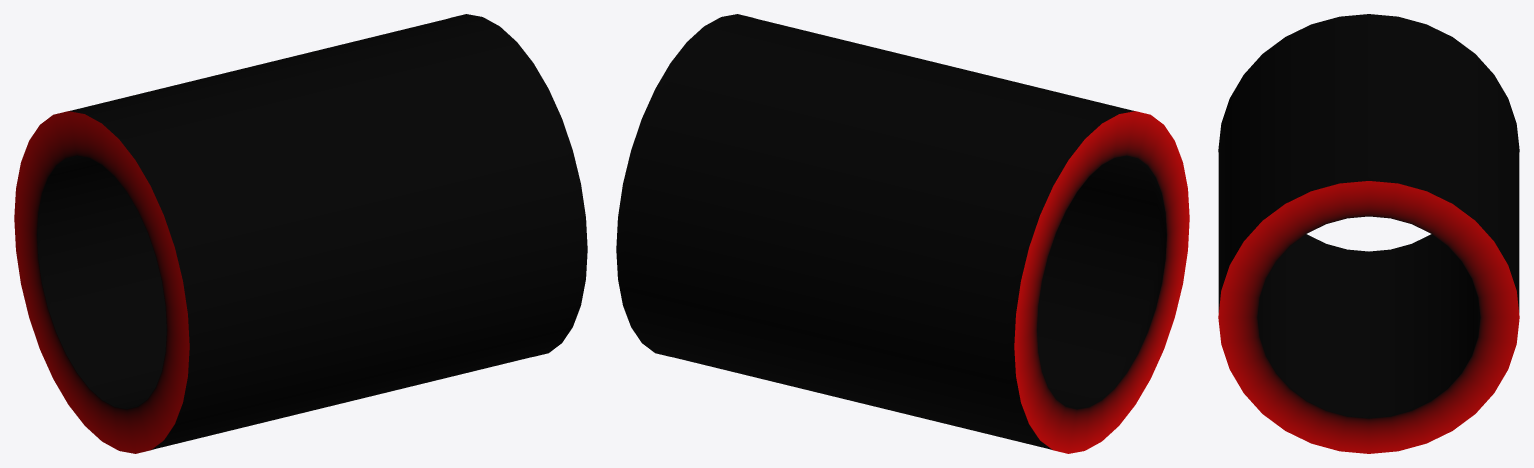
File: Dungeon_Pipe_05m.FBX
The picture shows the model from 3 angles, left to right: view 1: azimuth 30°, elevation 25°; view 2: azimuth 150°, elevation 25°; view 3: azimuth 270°, elevation 25°; orthographic projection. The views are drawn at different scales.
Parts seen in each view (by area): view 1: pipe_half_m; view 2: pipe_half_m; view 3: pipe_half_m.
Boxes of the visible parts, left/top/right/bottom form: pipe_half_m: left=14, top=14, right=587, bottom=453; pipe_half_m: left=616, top=14, right=1189, bottom=453; pipe_half_m: left=1218, top=14, right=1519, bottom=453.
Size of the model in its own units: 19.69 by 15.03 by 15.03.
